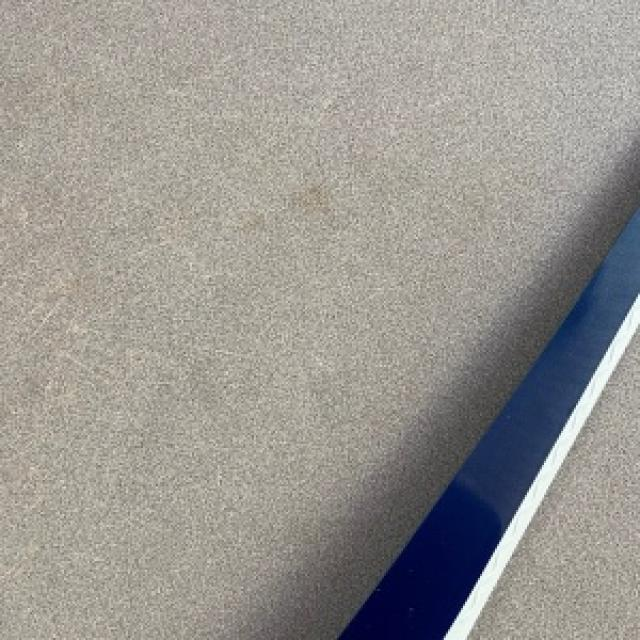healthy: (0, 0, 638, 638), (314, 0, 638, 621)
